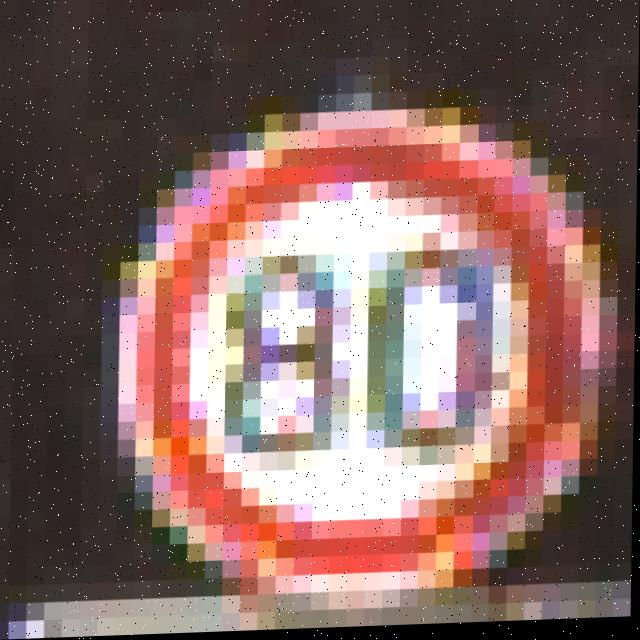speed_limit_80: (101, 115, 603, 602)
